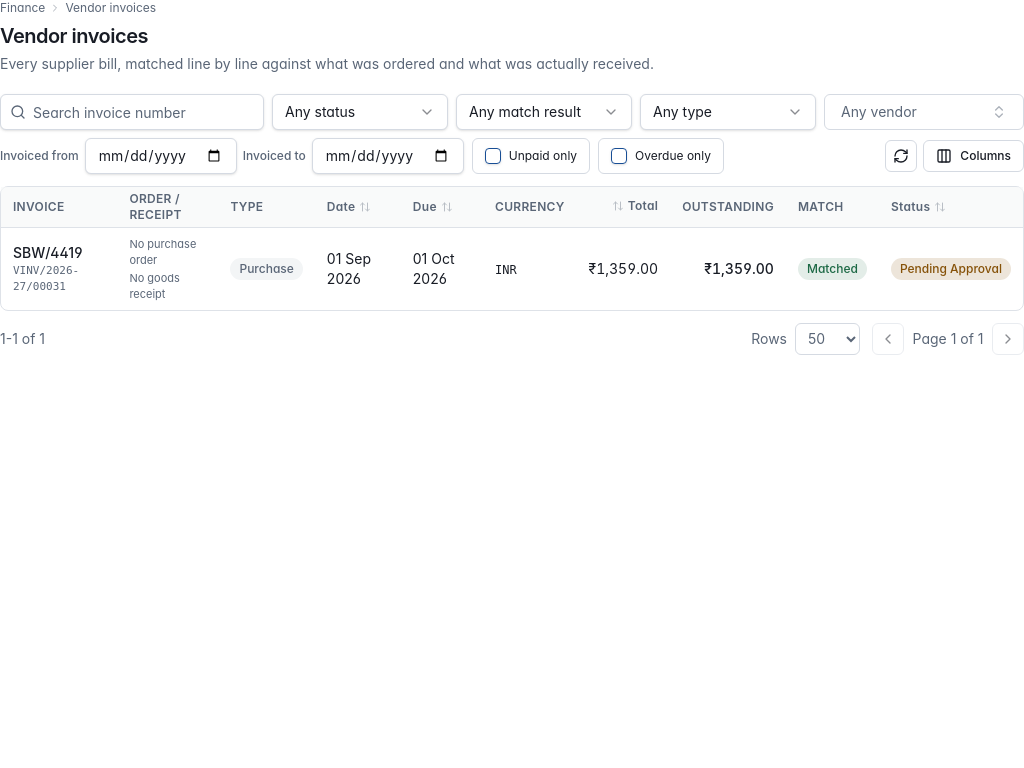
Scenario: recording a bill and clearing it for payment › gives the approver the approval and none of the document commands
The width and height of the screenshot is (1024, 768).
Click the button "SBW/4419" at (48, 252), box [13,242,82,262]
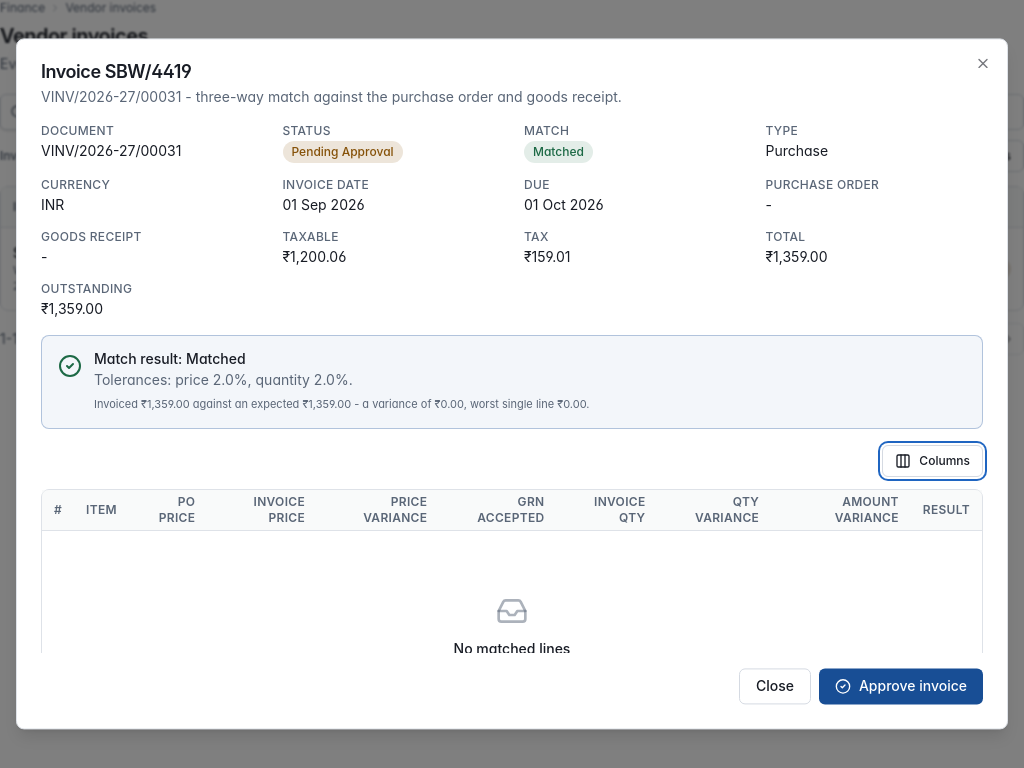
Check: the button "Approve invoice" is shown, box [819,669,983,705]
